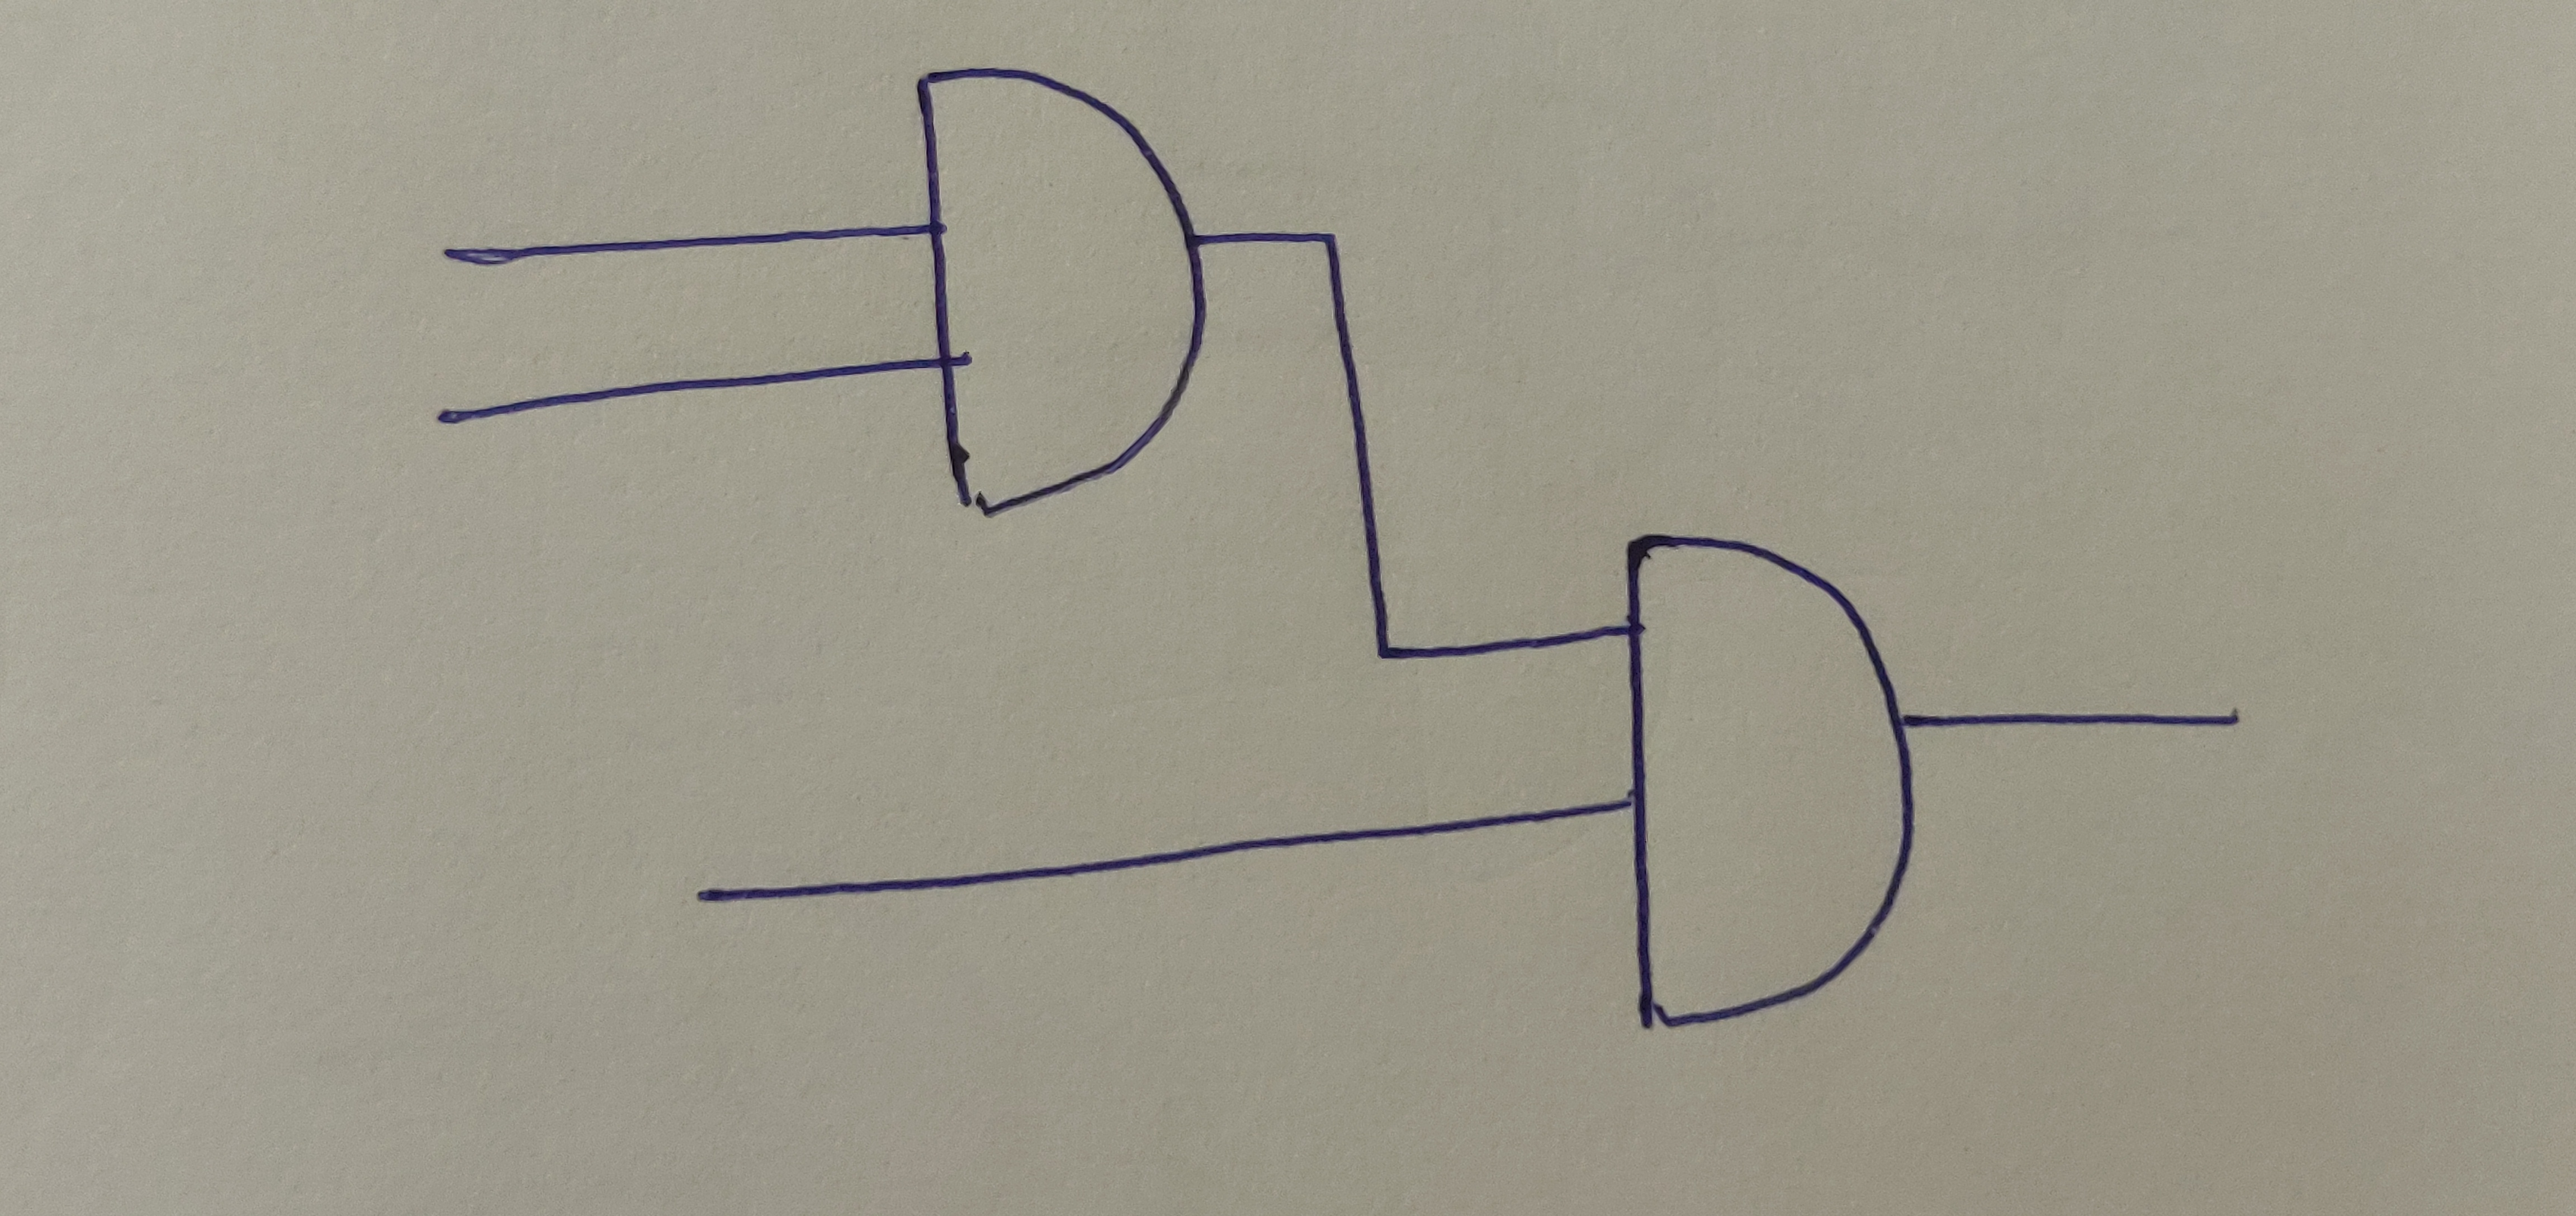and: (1622, 529, 1921, 1032), (910, 62, 1212, 519)
